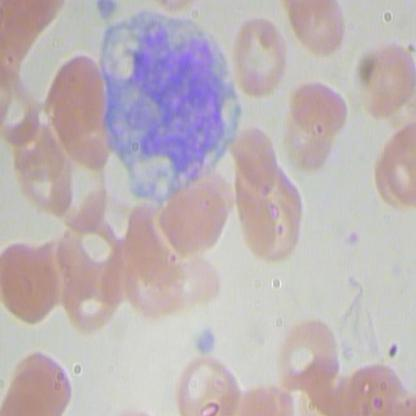Platelets: (189, 323, 219, 355)
RBC: (242, 175, 315, 262), (267, 311, 339, 398), (161, 174, 228, 267), (1, 343, 87, 415), (40, 54, 107, 146), (230, 10, 291, 111), (1, 236, 66, 328), (59, 260, 133, 339), (349, 41, 415, 125), (286, 68, 351, 139), (283, 1, 350, 65), (173, 354, 243, 415), (367, 121, 415, 208), (229, 117, 278, 201)
WBC: (94, 3, 235, 208)
